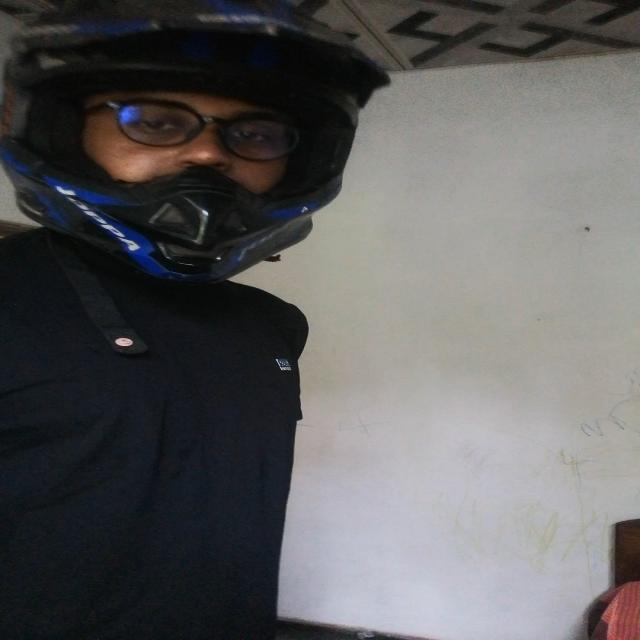Helmet_Wearer: (0, 0, 423, 272)
